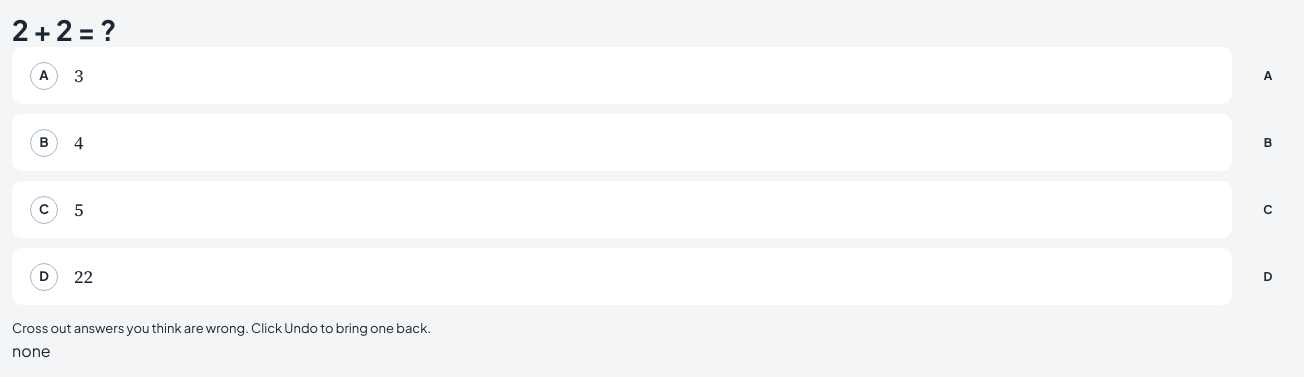
Test: cross out on multiple choice › crossing out the chosen option clears the answer
Click the radio button labelled "B 4" at point(44, 143), box [12,114,1232,171]
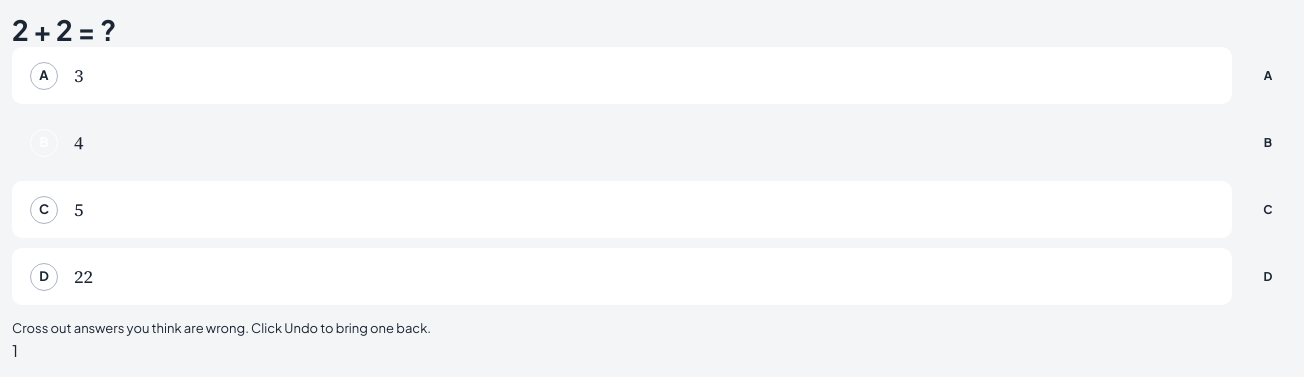
Result: the text with test id "value" reads "1" at [12,340,18,360]
Click the button named "Cross out B" at point(1268, 142), box [1244,124,1292,160]
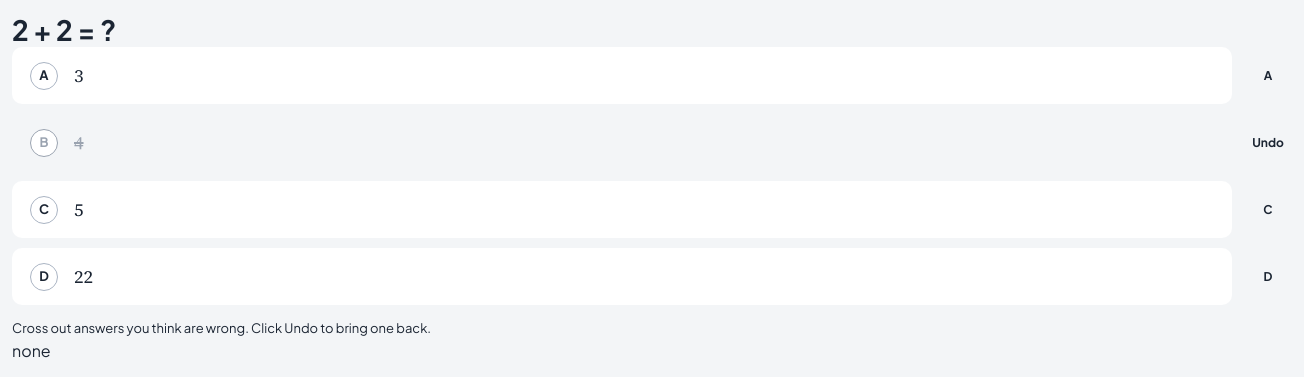
Result: the text with test id "value" reads "none" at [12,340,51,360]
Result: the button with aria-label "Undo cross out B" is shown at [1244,124,1292,160]
